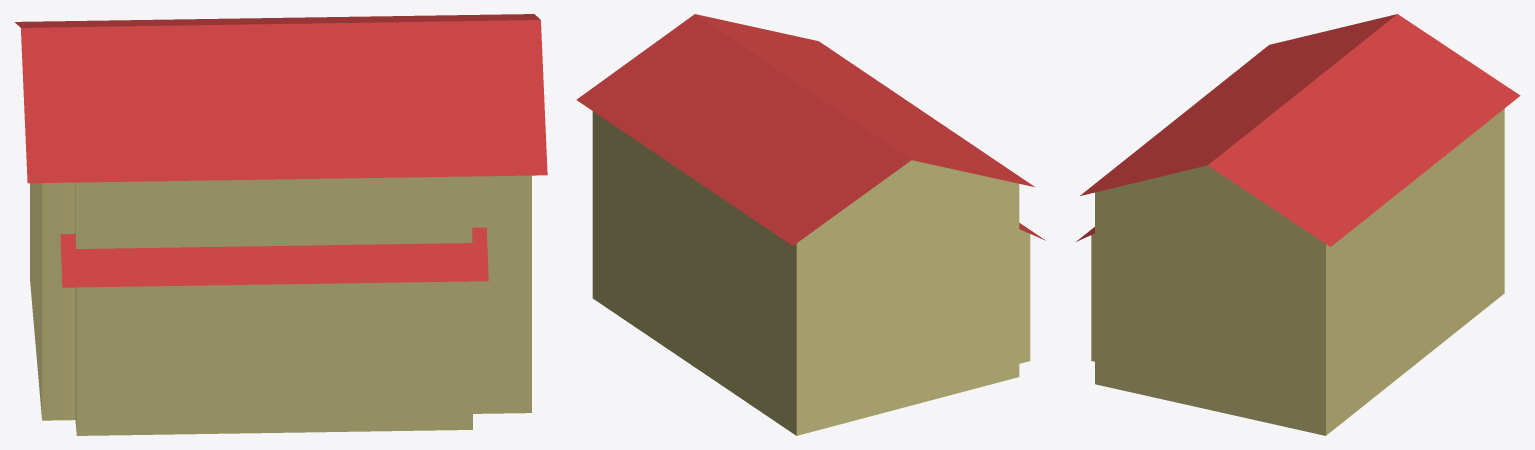
3 views of the same model, side by side, from view 1: azimuth 30°, elevation 25°; view 2: azimuth 150°, elevation 25°; view 3: azimuth 270°, elevation 25° (orthographic). The views are drawn at different scales.
Bounding box in the file's own units: 20.93 × 18.96 × 11.73.
